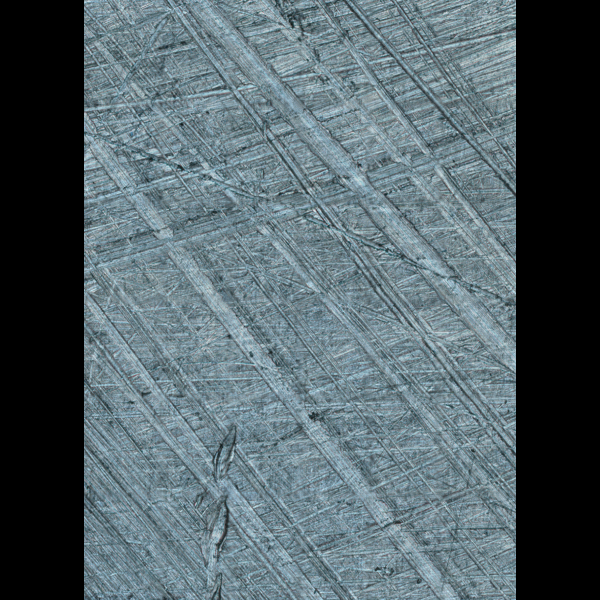d: (186, 418, 247, 599)
